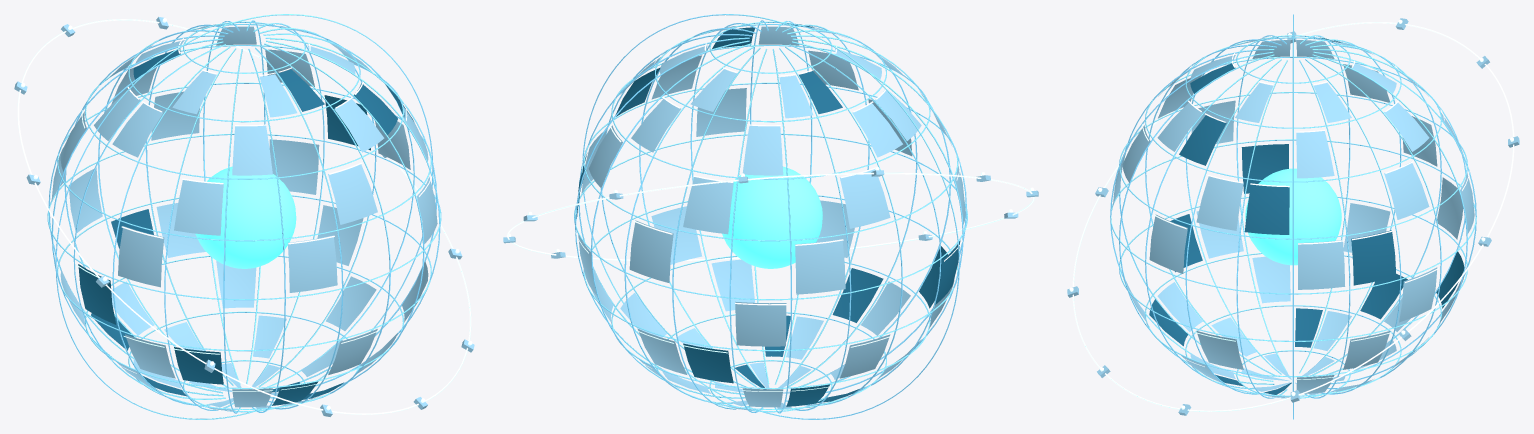
Rendered from planet-peripheral.glb.
3 views of the same model, side by side, from view 1: azimuth 30°, elevation 25°; view 2: azimuth 150°, elevation 25°; view 3: azimuth 270°, elevation 25° (orthographic). The views are drawn at different scales.
Parts seen in each view (by area): view 1: dyson-collector-panels, dyson-structural-lattice, dyson-blue-collector-panels, cyan-compute-core, fine-orbital-track, polar-skeletal-orbit, dyson-panel-light-seams, orbital-relay-modules; view 2: dyson-collector-panels, dyson-structural-lattice, dyson-blue-collector-panels, cyan-compute-core, polar-skeletal-orbit, fine-orbital-track, dyson-panel-light-seams, orbital-relay-modules; view 3: dyson-collector-panels, dyson-structural-lattice, dyson-blue-collector-panels, cyan-compute-core, fine-orbital-track, dyson-panel-light-seams, orbital-relay-modules.
Part boxes in pixels (x1,y1,x2,y2): dyson-collector-panels: (51,23,437,411); dyson-structural-lattice: (47,20,441,413); dyson-blue-collector-panels: (78,48,413,405); cyan-compute-core: (195,166,296,268); fine-orbital-track: (17,19,471,414); polar-skeletal-orbit: (55,14,433,419); dyson-panel-light-seams: (76,21,431,410); orbital-relay-modules: (14,17,474,416); dyson-collector-panels: (578,26,965,410); dyson-structural-lattice: (574,20,967,413); dyson-blue-collector-panels: (576,24,960,406); cyan-compute-core: (722,166,822,268); polar-skeletal-orbit: (582,14,959,419); fine-orbital-track: (507,172,1034,260); dyson-panel-light-seams: (575,21,962,409); orbital-relay-modules: (503,170,1038,258); dyson-collector-panels: (1112,37,1474,397); dyson-structural-lattice: (1110,34,1476,398); dyson-blue-collector-panels: (1149,37,1464,394); cyan-compute-core: (1245,168,1341,265); fine-orbital-track: (1072,22,1514,411); dyson-panel-light-seams: (1117,36,1469,397); orbital-relay-modules: (1067,18,1519,415).
Bounding box in the file's own units: 2.61 × 2.27 × 2.52.
